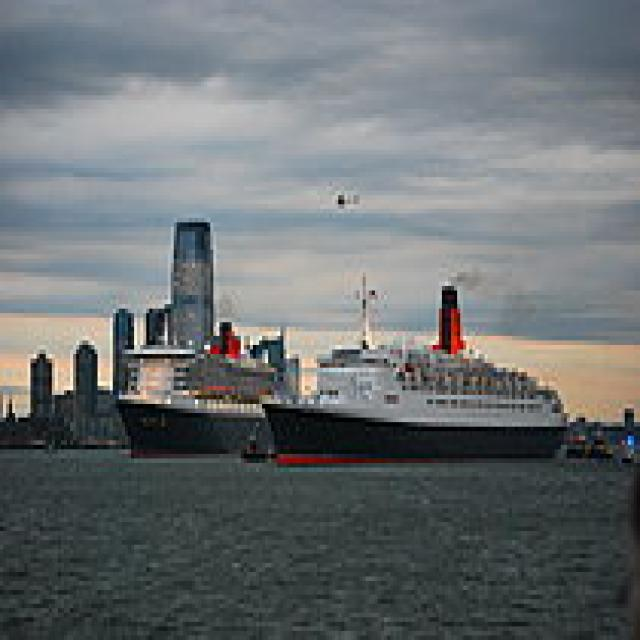Cruise: (259, 263, 567, 463), (110, 314, 298, 458)
